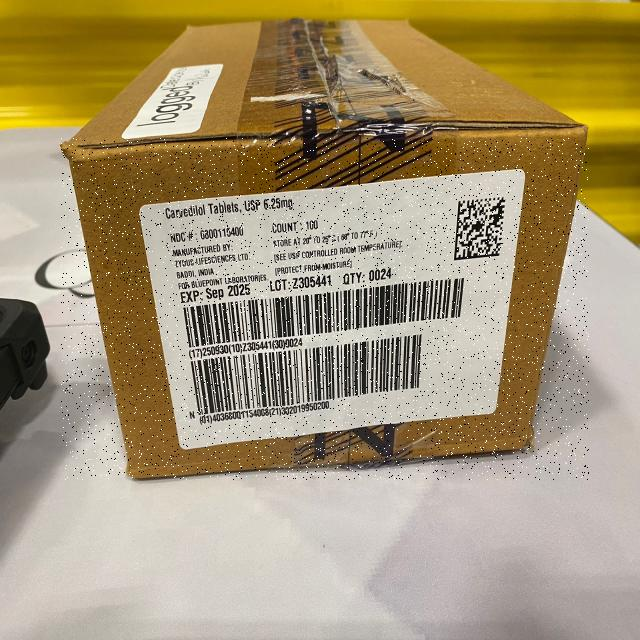BoxFace: (61, 138, 589, 480)
